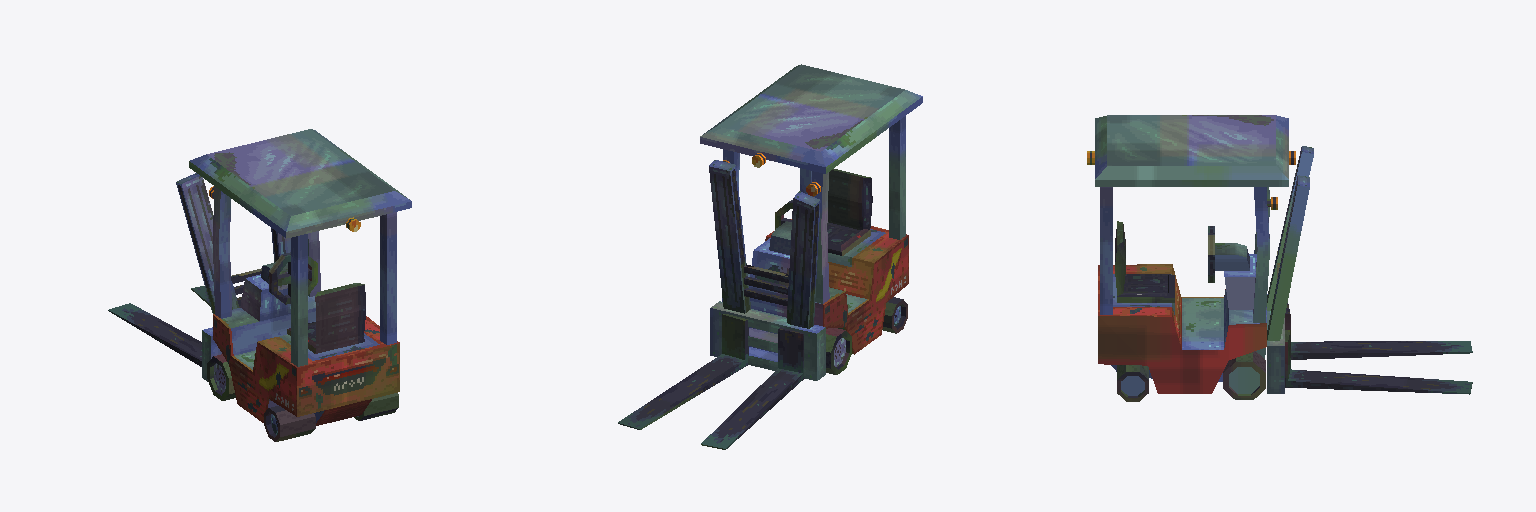
3 views of the same model, side by side, from view 1: azimuth 30°, elevation 25°; view 2: azimuth 150°, elevation 25°; view 3: azimuth 270°, elevation 25° (orthographic).
Visible parts, largest first — view 1: cuboid, cylinder, cuboid_selection; view 2: cuboid, cuboid_selection, cylinder; view 3: cuboid, cylinder, cuboid_selection.
Part boxes in pixels (left/top/right/bottom): cuboid: left=108, top=129, right=411, bottom=425; cylinder: left=207, top=186, right=398, bottom=441; cuboid_selection: left=176, top=173, right=290, bottom=313; cuboid: left=618, top=64, right=922, bottom=449; cuboid_selection: left=709, top=160, right=820, bottom=328; cylinder: left=723, top=153, right=907, bottom=374; cuboid: left=1095, top=115, right=1472, bottom=394; cylinder: left=1087, top=151, right=1295, bottom=401; cuboid_selection: left=1267, top=146, right=1313, bottom=340.
Bounding box in the file's own units: 3.66 × 6.36 × 9.62.
Materials: 1 (1 with a texture image).